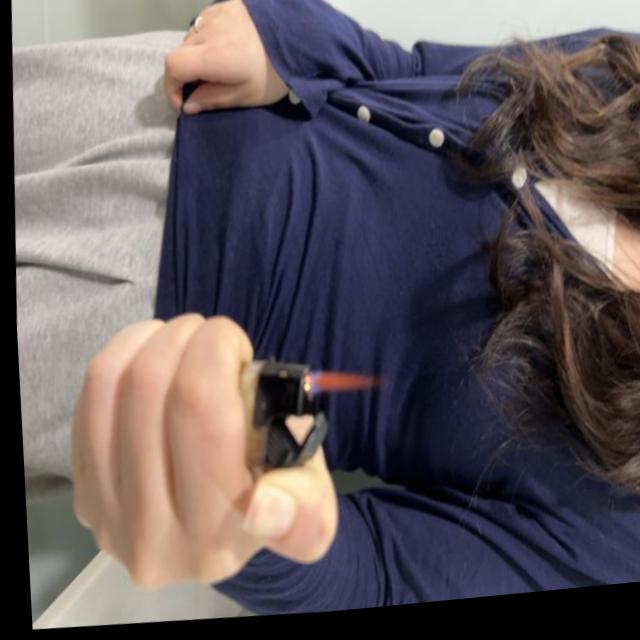Fire: (304, 366, 378, 406)
